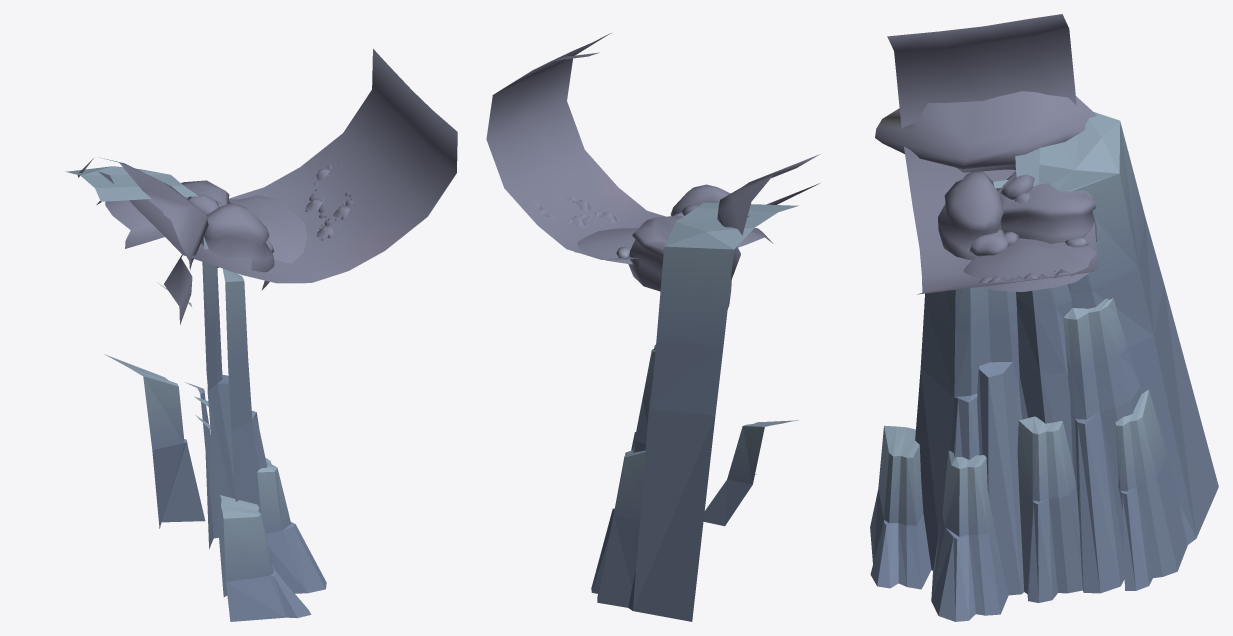
The model's file is Arctic_Luge_TunnelObstacle_Right_Mid_C.glb.
3 renders of one model, left to right at view 1: azimuth 30°, elevation 25°; view 2: azimuth 150°, elevation 25°; view 3: azimuth 270°, elevation 25°, orthographic. The views are drawn at different scales.
Parts seen in each view (by area): view 1: Arctic_Luge_TunnelObstacle_Right_Mid_C, Arctic_Narrows_Right_IceWall_A01, Arctic_Narrows_Right_IceWall_A01_Left, Arctic_Narrows_Right_IceWall_A01_Right, Arctic_Narrows_Right_IceWall_A01_Mid; view 2: Arctic_Narrows_Right_IceWall_A01, Arctic_Luge_TunnelObstacle_Right_Mid_C, Arctic_Narrows_Right_IceWall_A01_Right, Arctic_Narrows_Right_IceWall_A01_Left, Arctic_Narrows_Right_IceWall_A01_Mid; view 3: Arctic_Narrows_Right_IceWall_A01, Arctic_Luge_TunnelObstacle_Right_Mid_C, Arctic_Narrows_Right_IceWall_A01_Mid, Arctic_Narrows_Right_IceWall_A01_Left, Arctic_Narrows_Right_IceWall_A01_Right.
Boxes of the visible parts, x1,y1,x2,y2 form: Arctic_Luge_TunnelObstacle_Right_Mid_C: (77, 49, 457, 324); Arctic_Narrows_Right_IceWall_A01: (65, 166, 267, 596); Arctic_Narrows_Right_IceWall_A01_Left: (220, 458, 326, 621); Arctic_Narrows_Right_IceWall_A01_Right: (104, 354, 205, 528); Arctic_Narrows_Right_IceWall_A01_Mid: (157, 282, 218, 549); Arctic_Narrows_Right_IceWall_A01: (628, 202, 798, 621); Arctic_Luge_TunnelObstacle_Right_Mid_C: (486, 33, 820, 308); Arctic_Narrows_Right_IceWall_A01_Right: (591, 450, 645, 607); Arctic_Narrows_Right_IceWall_A01_Left: (703, 420, 798, 526); Arctic_Narrows_Right_IceWall_A01_Mid: (631, 344, 655, 452); Arctic_Narrows_Right_IceWall_A01: (915, 112, 1218, 595); Arctic_Luge_TunnelObstacle_Right_Mid_C: (875, 14, 1097, 294); Arctic_Narrows_Right_IceWall_A01_Mid: (1017, 298, 1141, 602); Arctic_Narrows_Right_IceWall_A01_Left: (870, 425, 1008, 621); Arctic_Narrows_Right_IceWall_A01_Right: (1115, 390, 1187, 590).
Size of what is drawn, in the model's own units: 5.03 by 8.6 by 4.9.
